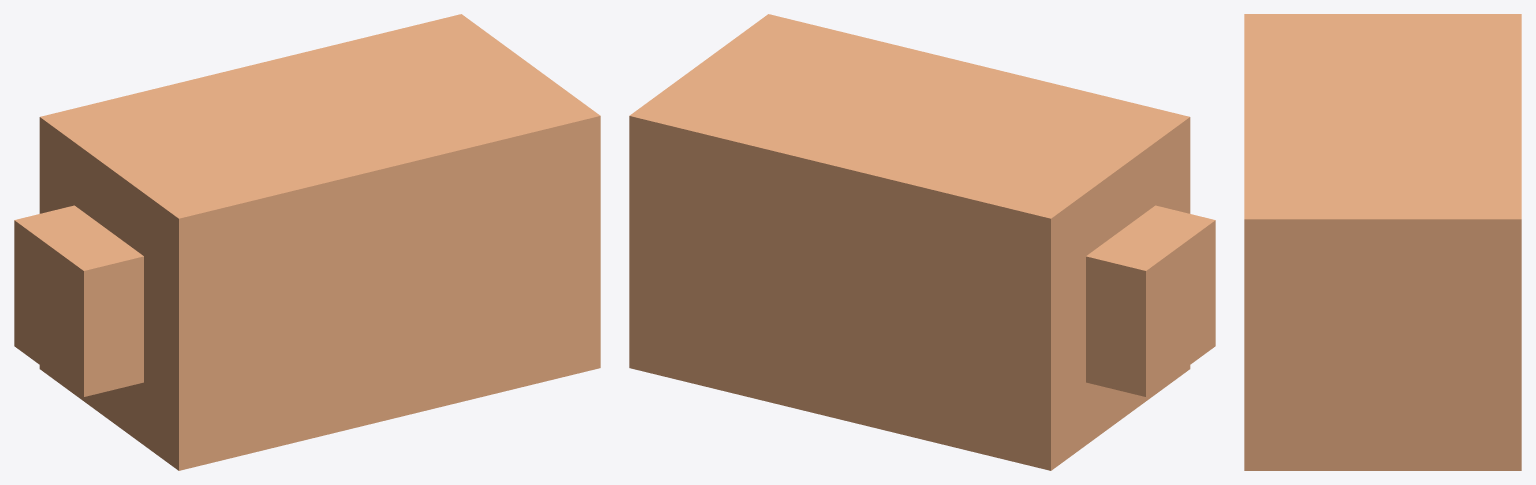
Rendered from Shoulder009.fbx.
3 views of the same model, side by side, from view 1: azimuth 30°, elevation 25°; view 2: azimuth 150°, elevation 25°; view 3: azimuth 270°, elevation 25° (orthographic).
Visible parts, largest first — view 1: Shoulder009; view 2: Shoulder009; view 3: Shoulder009.
Part boxes in pixels (x1=…): Shoulder009: x1=14, y1=14, x2=600, y2=470; Shoulder009: x1=629, y1=14, x2=1215, y2=470; Shoulder009: x1=1244, y1=14, x2=1521, y2=470.
Bounding box in the file's own units: 8 × 4 × 4.
